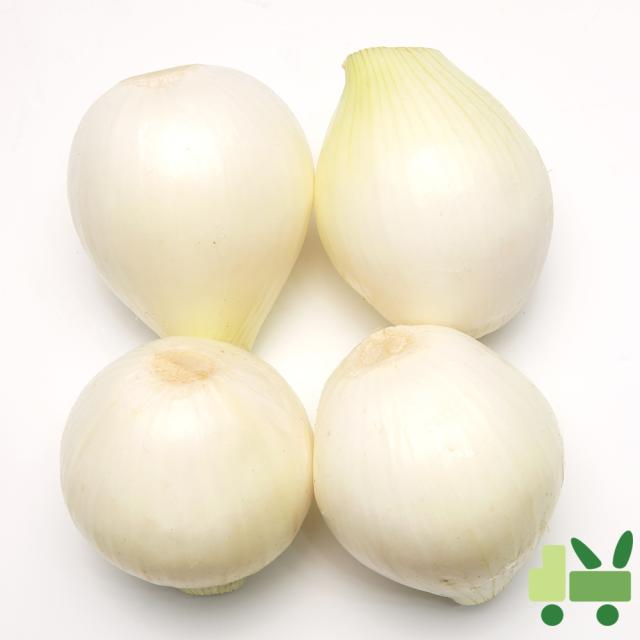onion: (64, 41, 570, 610), (313, 324, 566, 606), (315, 44, 555, 337), (68, 63, 315, 339), (56, 340, 311, 598)
